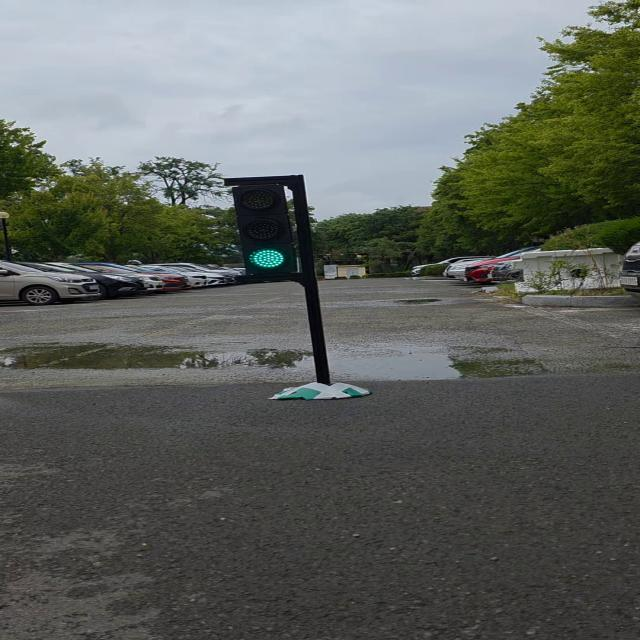green: (234, 178, 311, 279)
